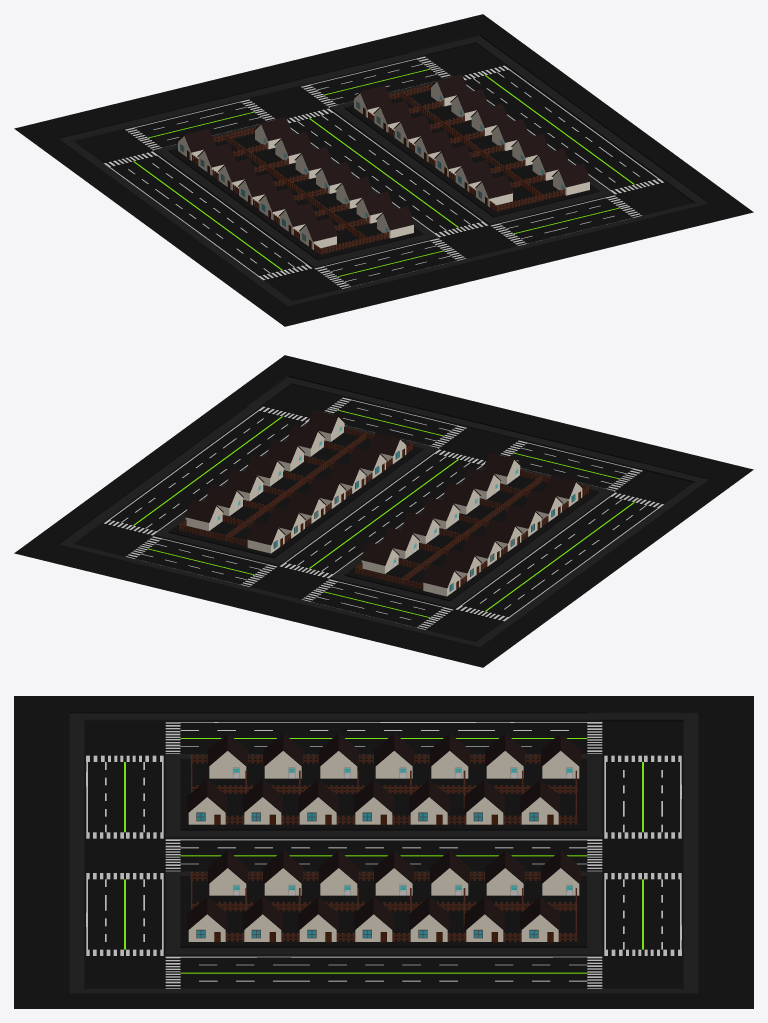
Rendered from TrashStage.obj.
3 views of the same model, one above another, from view 1: azimuth 30°, elevation 25°; view 2: azimuth 150°, elevation 25°; view 3: azimuth 270°, elevation 25° (orthographic). The views are drawn at different scales.
Parts seen in each view (by area): view 1: GroundT, GroundT.001, GroundN, GroundN.002, GroundS, GroundL.003, GroundL.001, GroundN.001, GroundL, GroundL.002, GroundS.001, GroundS.002 (+35 smaller); view 2: GroundT.001, GroundT, GroundN, GroundN.002, GroundS.001, GroundL.002, GroundL, GroundN.001, GroundL.003, GroundL.001, GroundS, GroundS.005 (+35 smaller); view 3: GroundN, GroundT, GroundT.001, GroundN.001, GroundL.001, GroundL.002, GroundS.001, GroundS, GroundL, GroundL.003, GroundN.002, GroundS.002 (+35 smaller).
Part boxes in pixels (x1=…): GroundT: x1=388, y1=208, x2=589, y2=286; GroundT.001: x1=178, y1=54, x2=364, y2=132; GroundN: x1=210, y1=119, x2=532, y2=229; GroundN.002: x1=116, y1=180, x2=276, y2=252; GroundS: x1=277, y1=167, x2=598, y2=259; GroundL.003: x1=390, y1=14, x2=543, y2=80; GroundL.001: x1=14, y1=105, x2=168, y2=172; GroundN.001: x1=505, y1=88, x2=651, y2=160; GroundL: x1=600, y1=168, x2=753, y2=235; GroundL.002: x1=224, y1=260, x2=377, y2=326; GroundS.001: x1=169, y1=87, x2=459, y2=179; GroundS.002: x1=529, y1=191, x2=659, y2=252; GroundT.001: x1=178, y1=549, x2=379, y2=627; GroundT: x1=396, y1=395, x2=589, y2=473; GroundN: x1=239, y1=459, x2=557, y2=570; GroundN.002: x1=491, y1=521, x2=651, y2=593; GroundS.001: x1=169, y1=509, x2=490, y2=600; GroundL.002: x1=599, y1=446, x2=753, y2=513; GroundL: x1=224, y1=355, x2=377, y2=422; GroundN.001: x1=116, y1=429, x2=267, y2=501; GroundL.003: x1=14, y1=509, x2=167, y2=576; GroundL.001: x1=390, y1=601, x2=543, y2=667; GroundS: x1=304, y1=430, x2=598, y2=520; GroundS.005: x1=108, y1=532, x2=238, y2=593; GroundN: x1=291, y1=758, x2=476, y2=946; GroundT: x1=14, y1=805, x2=180, y2=902; GroundT.001: x1=587, y1=805, x2=753, y2=902; GroundN.001: x1=291, y1=946, x2=476, y2=1008; GroundL.001: x1=587, y1=696, x2=753, y2=761; GroundL.002: x1=14, y1=696, x2=180, y2=761; GroundS.001: x1=476, y1=758, x2=587, y2=946; GroundS: x1=180, y1=758, x2=291, y2=946; GroundL: x1=14, y1=946, x2=180, y2=1008; GroundL.003: x1=587, y1=946, x2=753, y2=1008; GroundN.002: x1=291, y1=696, x2=476, y2=758; GroundS.002: x1=14, y1=899, x2=180, y2=949.
Size of the model in its own units: 1600 by 78.1 by 1600.
